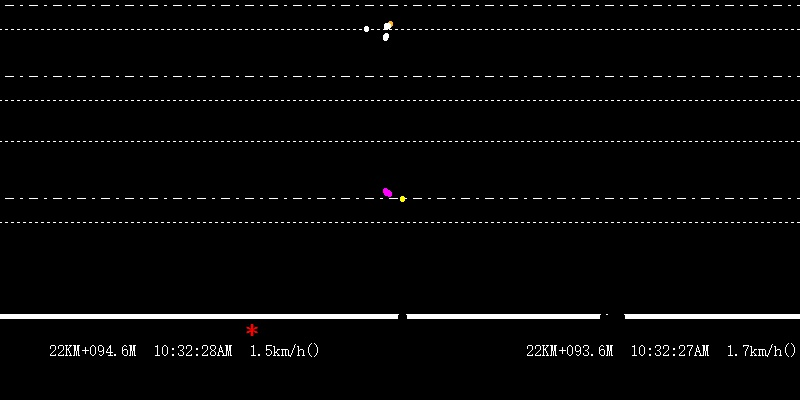face_1: (360, 24, 371, 34)
star: (245, 320, 258, 337)
